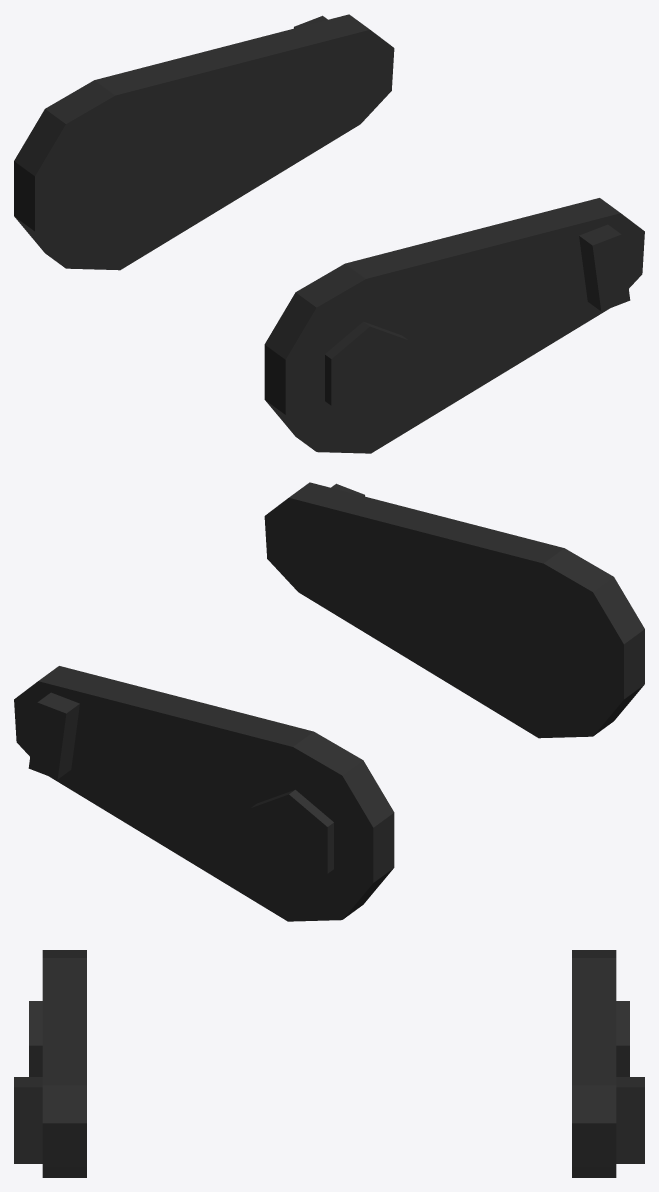
Rendered from Pistol3_02_4.fbx.
3 views of the same model, one above another, from view 1: azimuth 30°, elevation 25°; view 2: azimuth 150°, elevation 25°; view 3: azimuth 270°, elevation 25° (orthographic). The views are drawn at different scales.
Parts seen in each view (by area): view 1: Pistol3_02_4; view 2: Pistol3_02_4; view 3: Pistol3_02_4.
Boxes of the visible parts, <box> form: Pistol3_02_4: <box>14,14,644,453</box>; Pistol3_02_4: <box>14,482,644,921</box>; Pistol3_02_4: <box>14,950,644,1177</box>.
Bounding box in the file's own units: 0.0373 × 0.0178 × 0.0538.
